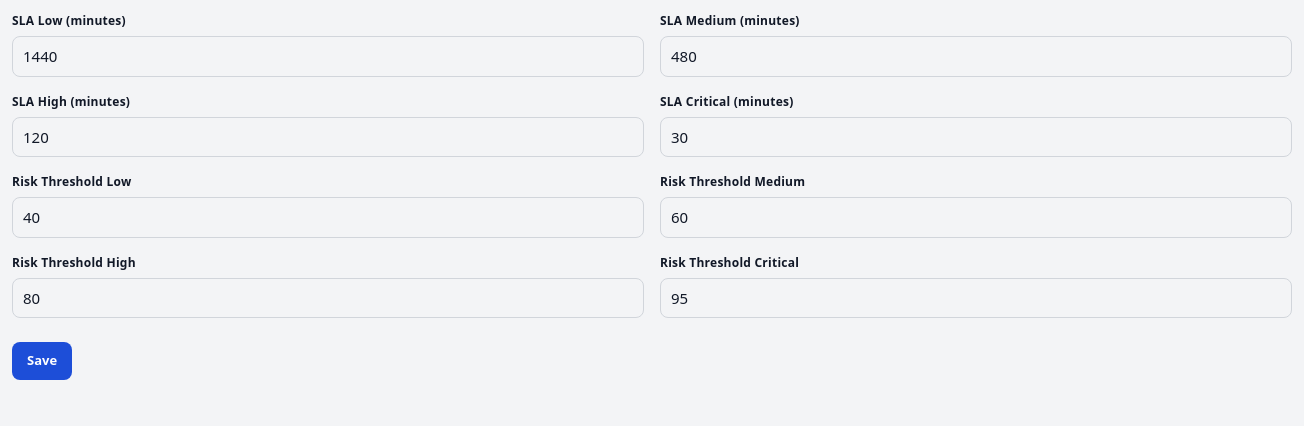
Scenario: FraudConfigScreen › saves successfully and shows feedback
Expected: the field showing "1440" is shown, x1=12 y1=36 x2=644 y2=76
Click the button "Save" at {"x": 42, "y": 361}, box x1=12 y1=342 x2=72 y2=380
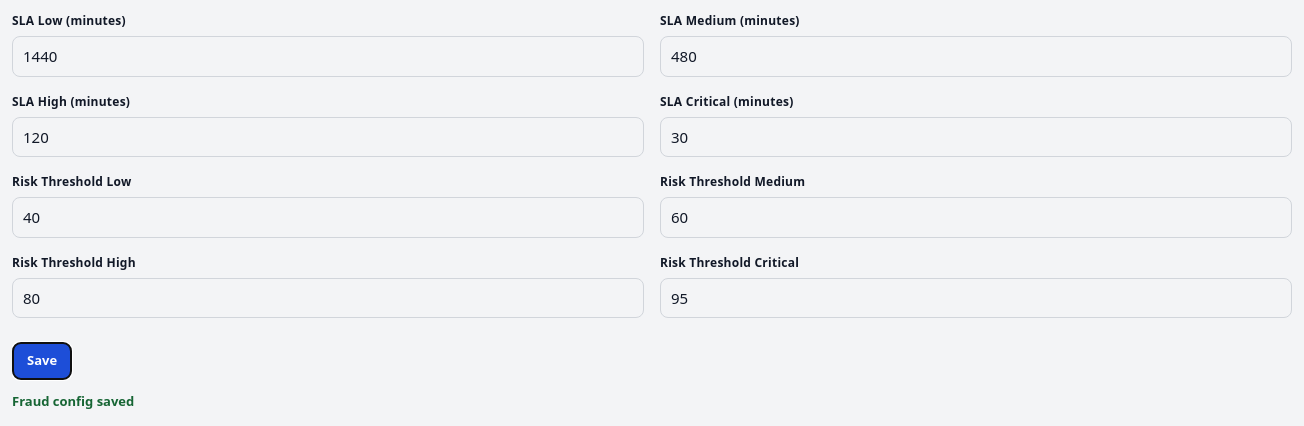
Result: the text "Fraud config saved" is shown at x1=12 y1=392 x2=134 y2=410
